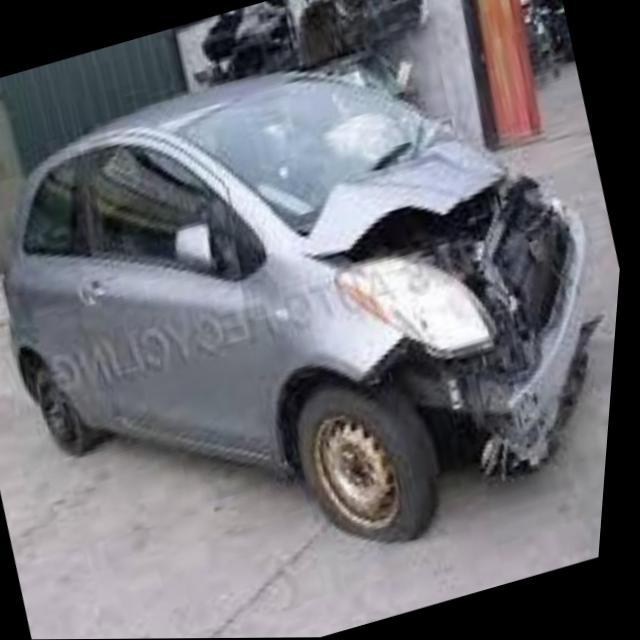no part: (286, 109, 592, 476)
